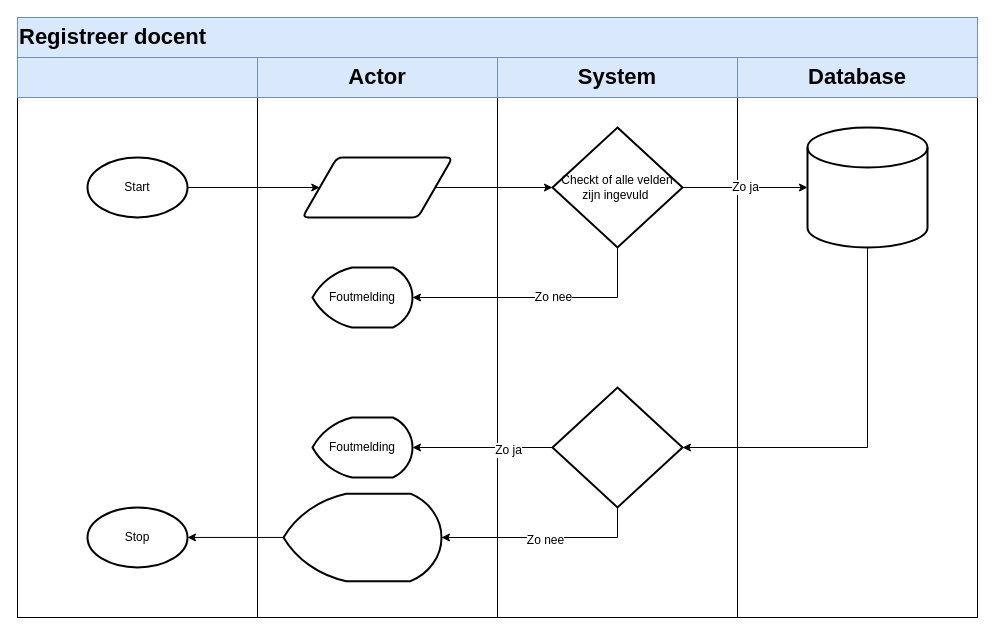
This 995x635 diagram has some shape labels left out. Here are the shapes that lost their labels. From the top down, the box of each, then its label:
(301, 156, 453, 218): Input actor
(806, 126, 928, 248): Slaat gegevens op
(551, 386, 683, 508): Checkt of gebruiker al bestaat
(282, 492, 442, 582): Actor heeft succesvol een account aangemaakt
